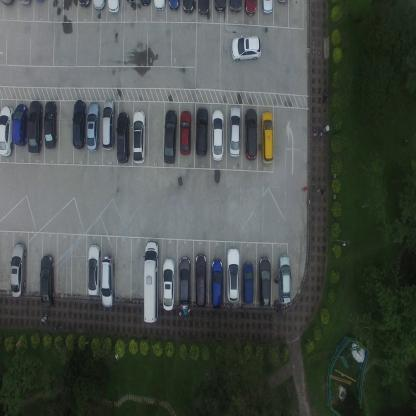car: (142, 240, 160, 324), (10, 240, 27, 297), (230, 34, 262, 62), (27, 99, 43, 155), (100, 255, 116, 308), (40, 254, 55, 309), (132, 108, 146, 166), (260, 110, 274, 166), (163, 108, 177, 164), (12, 102, 29, 148), (194, 105, 209, 157), (226, 247, 240, 302), (244, 107, 258, 161), (116, 111, 130, 164), (86, 100, 100, 153), (210, 257, 224, 310), (102, 98, 116, 150), (0, 104, 14, 156), (178, 256, 191, 312), (194, 254, 207, 309), (162, 256, 175, 311), (228, 104, 241, 158), (258, 256, 271, 310), (72, 99, 86, 149), (43, 99, 57, 149), (87, 244, 100, 296), (278, 253, 291, 304), (211, 108, 223, 160), (179, 109, 191, 157), (242, 261, 254, 306), (243, 0, 258, 18), (181, 0, 195, 15), (228, 0, 243, 14), (107, 0, 121, 14), (261, 0, 274, 15), (198, 0, 209, 17), (92, 0, 105, 13), (213, 0, 227, 12), (168, 0, 180, 12), (153, 0, 165, 11), (78, 0, 90, 9), (140, 0, 152, 8)
